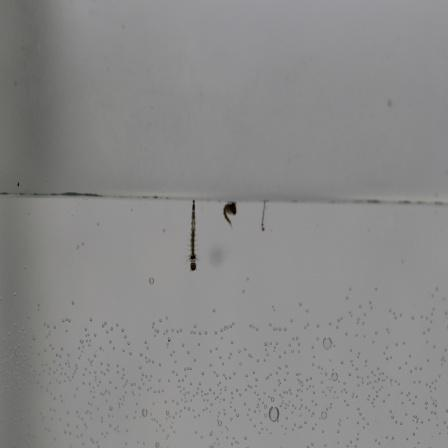Jentik-Nyamuk: (183, 196, 203, 277), (216, 198, 241, 230), (257, 198, 269, 236)
